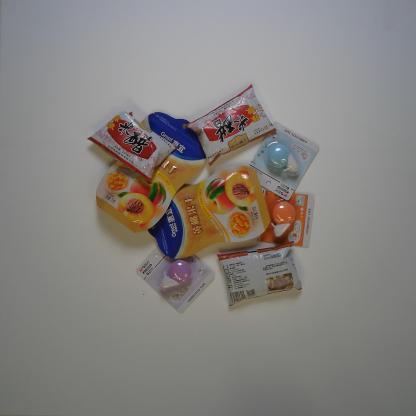Dried Fruit: (95, 110, 208, 233), (146, 162, 272, 262)
Seasoner: (181, 82, 277, 167), (86, 111, 178, 182), (215, 240, 303, 306)
Stationery: (135, 242, 216, 314), (249, 120, 320, 200), (248, 188, 316, 247)
